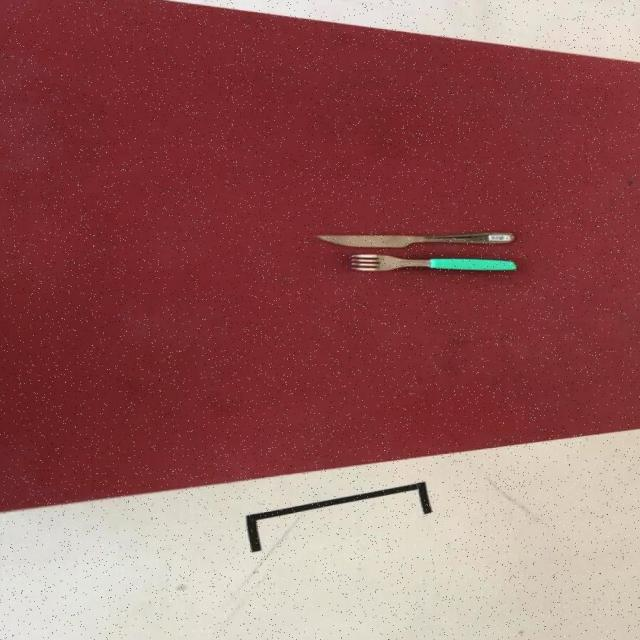Fork: (347, 253, 516, 272)
Knife: (314, 230, 514, 248), (348, 252, 517, 272)
